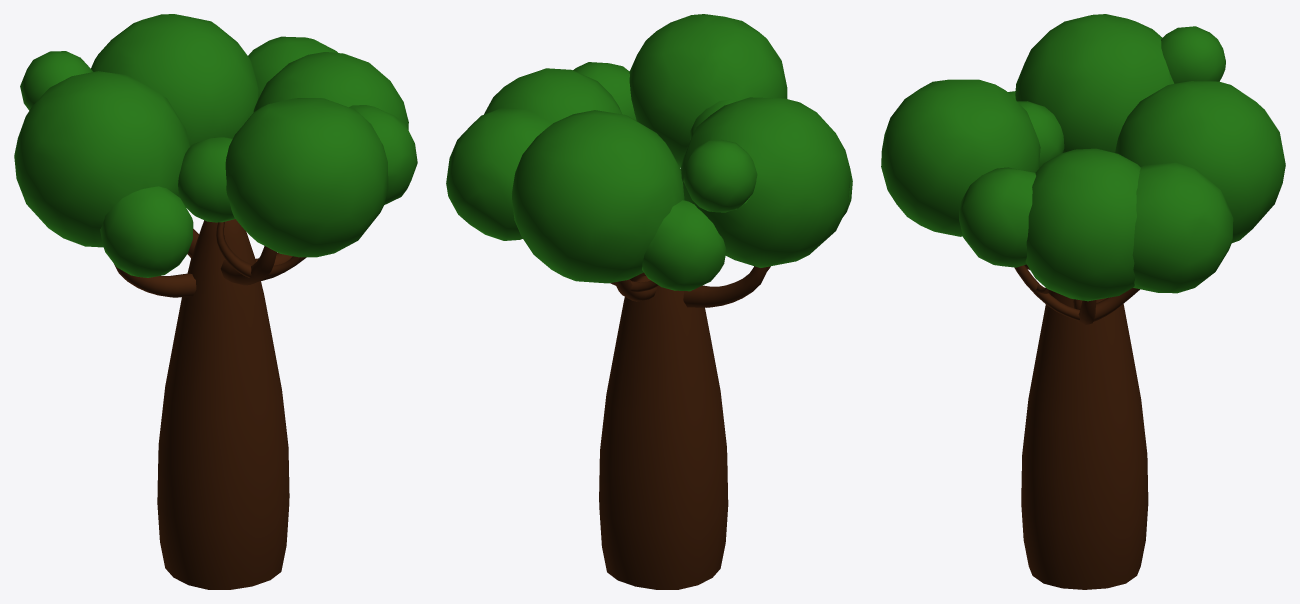
Rendered from tree_06.fbx.
3 views of the same model, side by side, from view 1: azimuth 30°, elevation 25°; view 2: azimuth 150°, elevation 25°; view 3: azimuth 270°, elevation 25° (orthographic). The views are drawn at different scales.
Visible parts, largest first — view 1: tree_06; view 2: tree_06; view 3: tree_06.
Part boxes in pixels (bbox=[...]): tree_06: bbox=[14, 14, 417, 589]; tree_06: bbox=[446, 14, 852, 589]; tree_06: bbox=[881, 14, 1285, 589].
Size of the model in its own units: 3.41 by 3.38 by 4.51.
